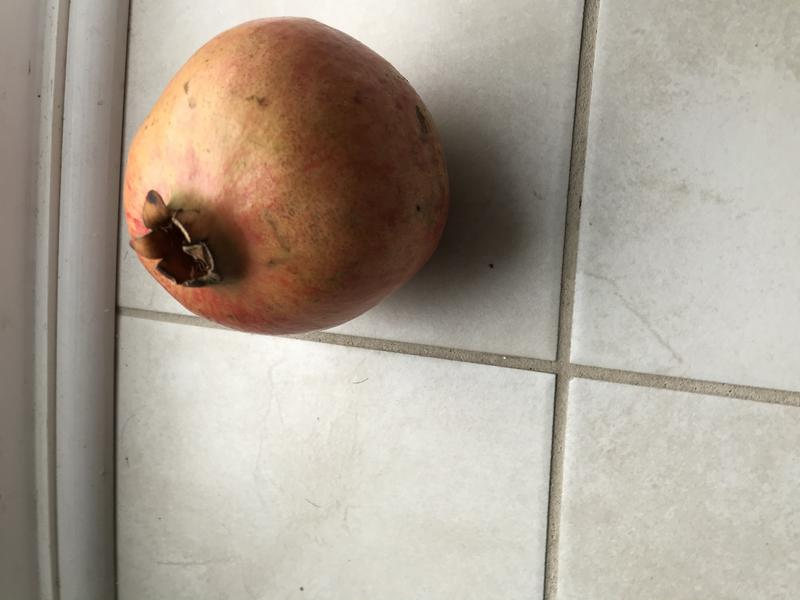pomegranate: (111, 13, 463, 344)
